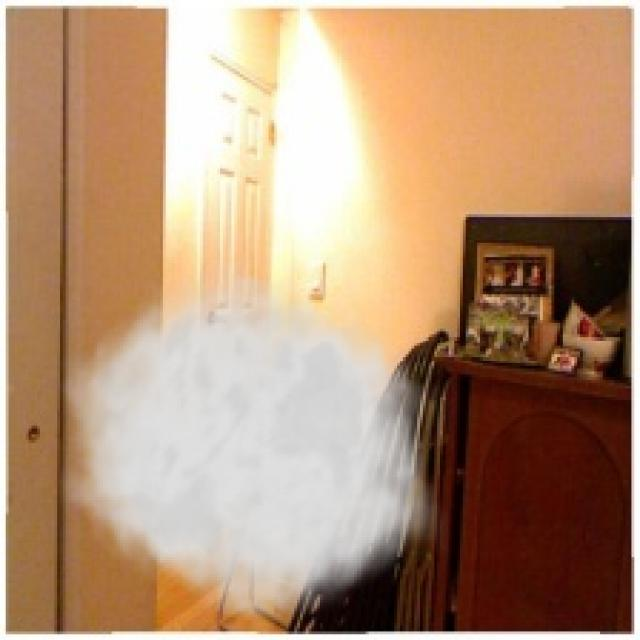smoke: (57, 257, 449, 632)
